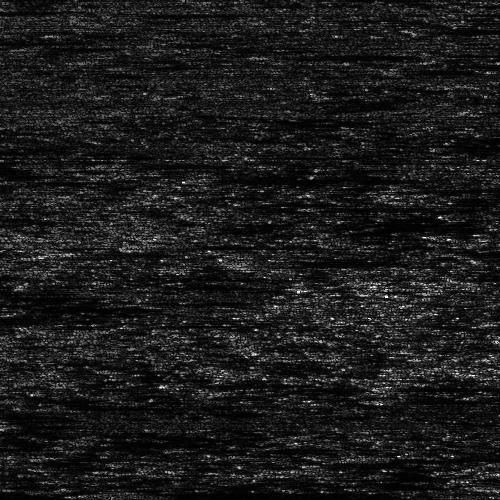object: (193, 256, 328, 269), (18, 249, 123, 256), (332, 455, 405, 460), (132, 241, 173, 248), (474, 466, 500, 473), (256, 54, 309, 57), (369, 398, 422, 401), (413, 27, 454, 30), (375, 384, 416, 387)
shadow: (261, 256, 351, 269), (369, 455, 500, 460), (131, 493, 322, 496), (153, 241, 208, 248), (283, 54, 410, 57), (71, 249, 124, 256), (396, 398, 500, 401), (396, 384, 470, 387), (434, 27, 500, 30)
